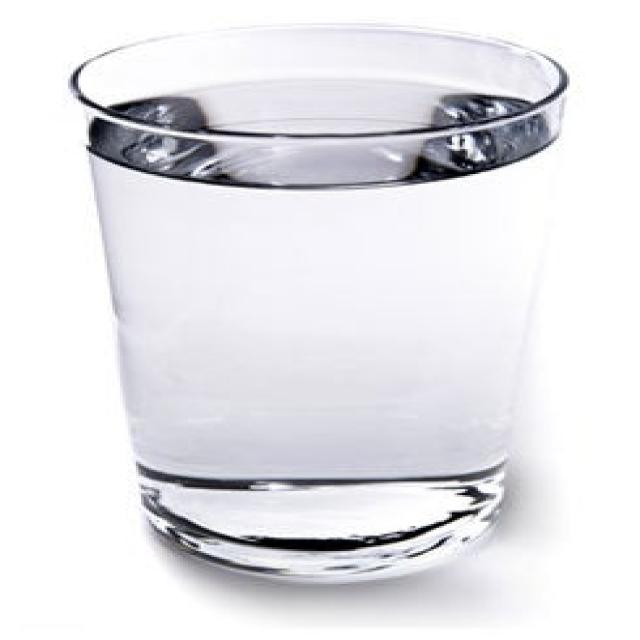Cup: (38, 15, 586, 594)
